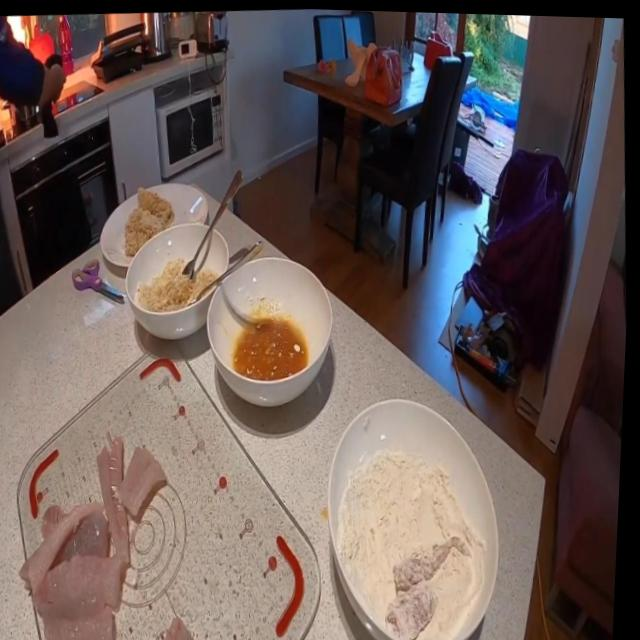fire: (6, 15, 31, 48)
